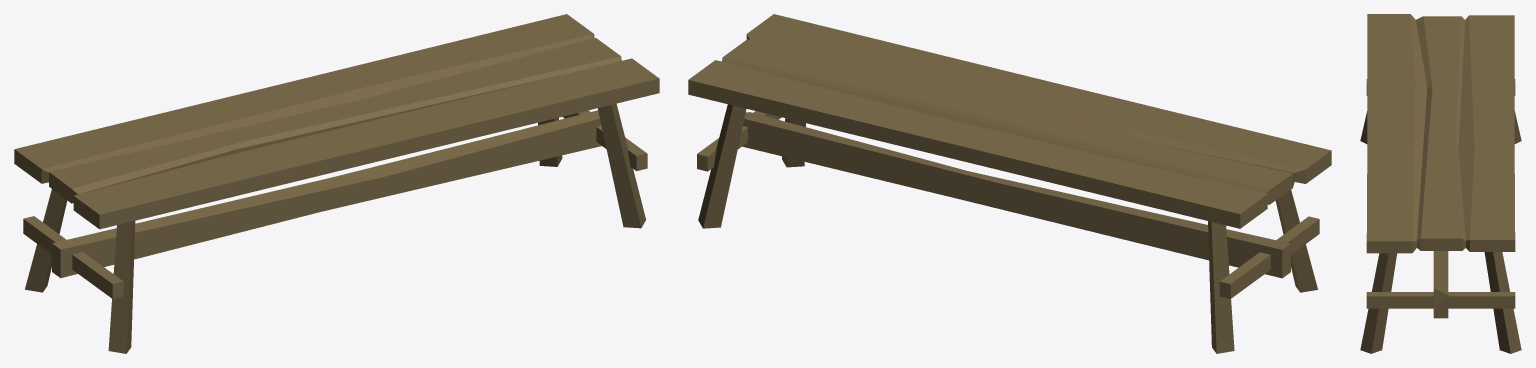
Rendered from Bench_1.fbx.
3 views of the same model, side by side, from view 1: azimuth 30°, elevation 25°; view 2: azimuth 150°, elevation 25°; view 3: azimuth 270°, elevation 25° (orthographic). The views are drawn at different scales.
Visible parts, largest first — view 1: Bench_1; view 2: Bench_1; view 3: Bench_1.
Boxes of the visible parts, left/top/right/bottom form: Bench_1: left=14, top=14, right=659, bottom=353; Bench_1: left=688, top=14, right=1331, bottom=353; Bench_1: left=1360, top=14, right=1521, bottom=353.
Bounding box in the file's own units: 197 × 47.91 × 59.05.
